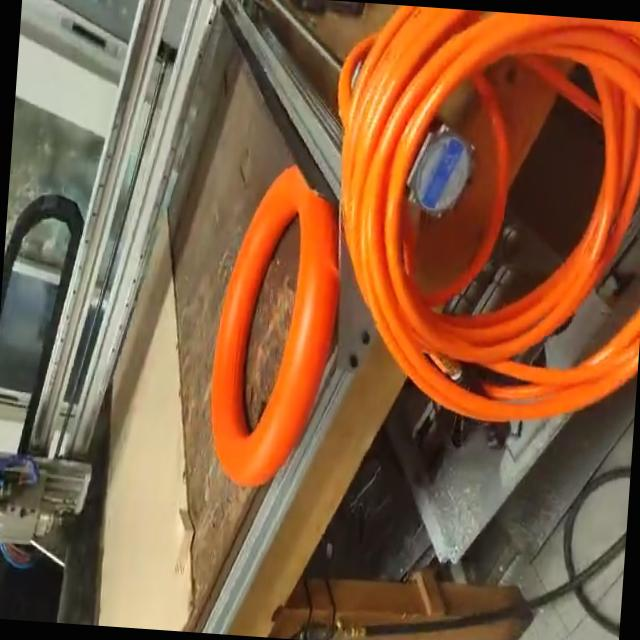note: (202, 158, 346, 492)
